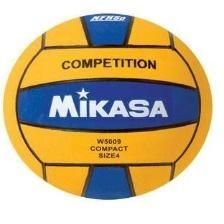Sports-Ball: (7, 17, 215, 202)
